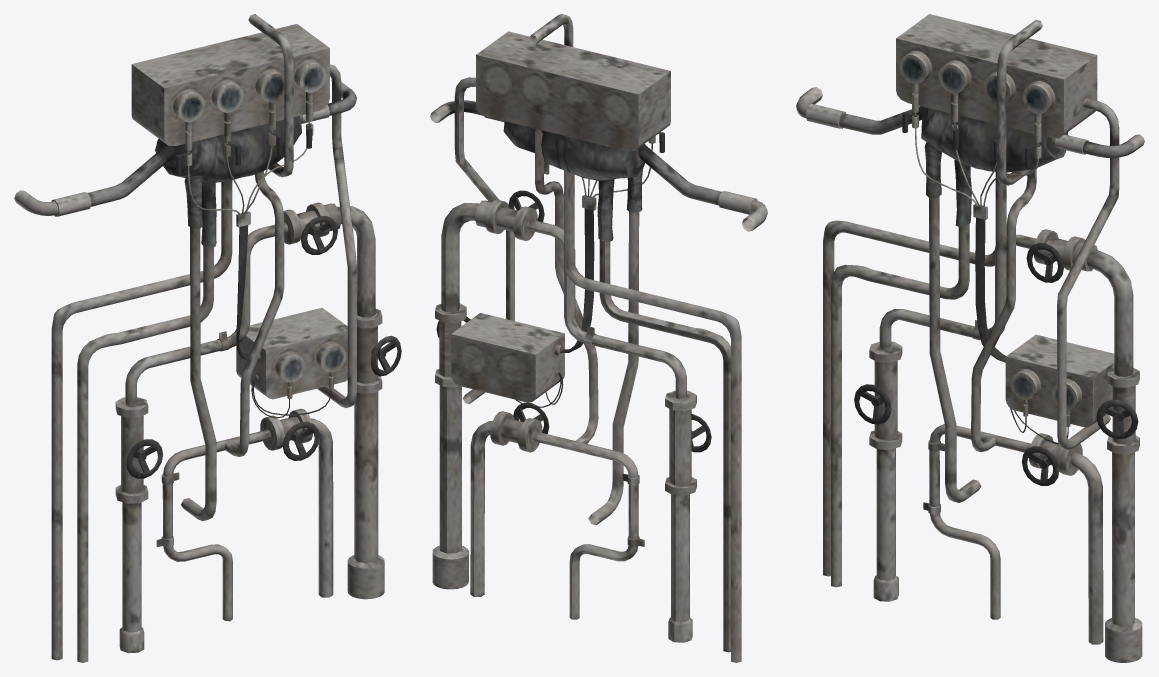
The model's file is sm22_010_pipe02a.fbx.
The picture shows the model from 3 angles, left to right: view 1: azimuth 30°, elevation 25°; view 2: azimuth 150°, elevation 25°; view 3: azimuth 330°, elevation 25°; orthographic projection. The views are drawn at different scales.
Parts seen in each view (by area): view 1: LOD_1_Group_0_Sub_1__sm22_010_Pipe02A_A_Mat; view 2: LOD_1_Group_0_Sub_1__sm22_010_Pipe02A_A_Mat; view 3: LOD_1_Group_0_Sub_1__sm22_010_Pipe02A_A_Mat.
Boxes of the visible parts, x1,y1,x2,y2 form: LOD_1_Group_0_Sub_1__sm22_010_Pipe02A_A_Mat: (14,14,401,662); LOD_1_Group_0_Sub_1__sm22_010_Pipe02A_A_Mat: (430,14,767,662); LOD_1_Group_0_Sub_1__sm22_010_Pipe02A_A_Mat: (796,14,1144,662).
Size of the model in its own units: 1.15 by 1.83 by 0.2678.
